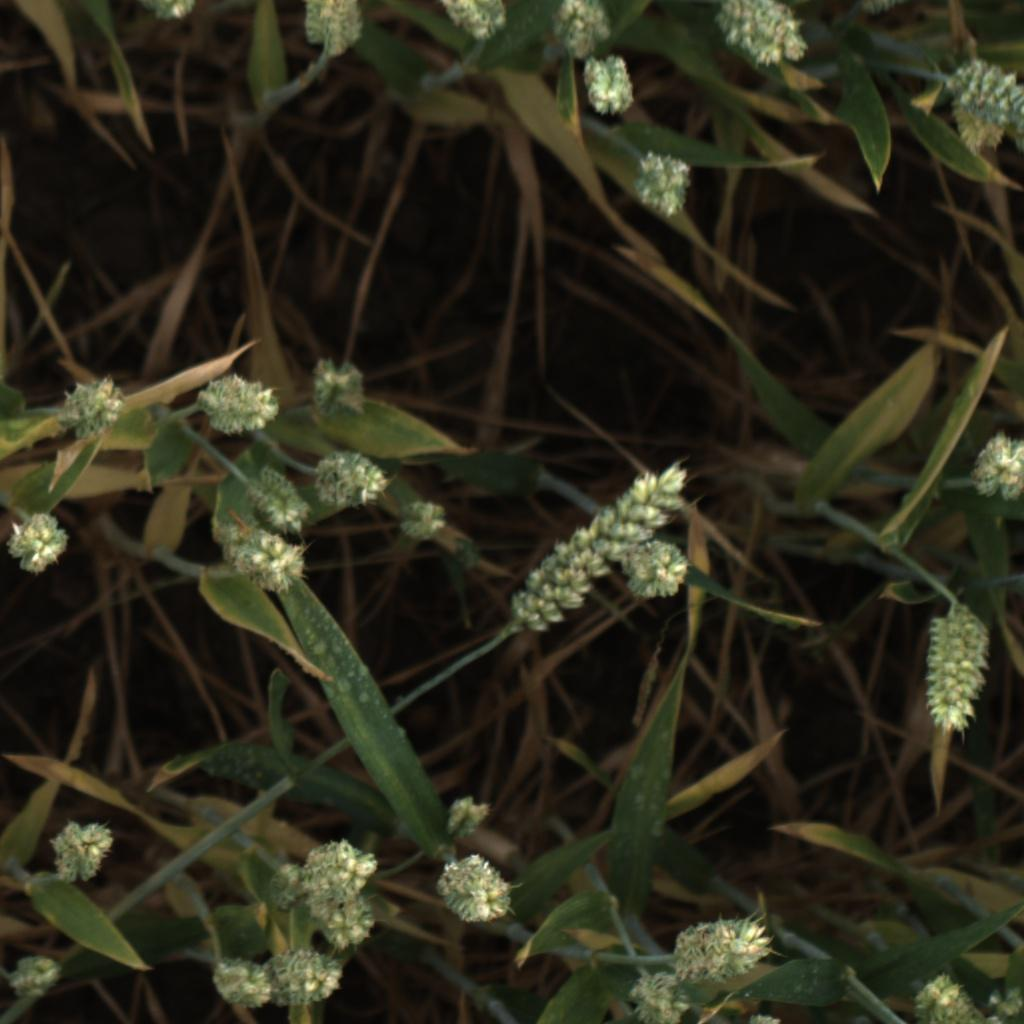0-0: (492, 446, 702, 647), (917, 610, 991, 735), (944, 58, 1024, 155), (713, 0, 815, 76), (209, 519, 307, 598), (669, 913, 776, 983), (432, 856, 522, 927), (193, 374, 284, 439), (310, 445, 392, 517), (291, 836, 384, 899), (0, 507, 79, 578), (45, 814, 121, 885), (55, 372, 127, 446), (301, 351, 373, 425), (614, 536, 695, 601), (629, 149, 699, 222), (246, 464, 314, 536), (275, 948, 349, 1012), (578, 49, 642, 123), (964, 430, 1024, 507), (910, 971, 997, 1024), (948, 89, 1012, 160), (299, 0, 371, 63), (210, 950, 281, 1013), (548, 0, 619, 62), (313, 899, 387, 955), (625, 970, 701, 1024), (259, 858, 318, 917), (3, 950, 69, 1001), (436, 0, 508, 46), (395, 490, 449, 546), (438, 789, 497, 836), (134, 0, 203, 29), (851, 0, 934, 14), (734, 1012, 789, 1024)
